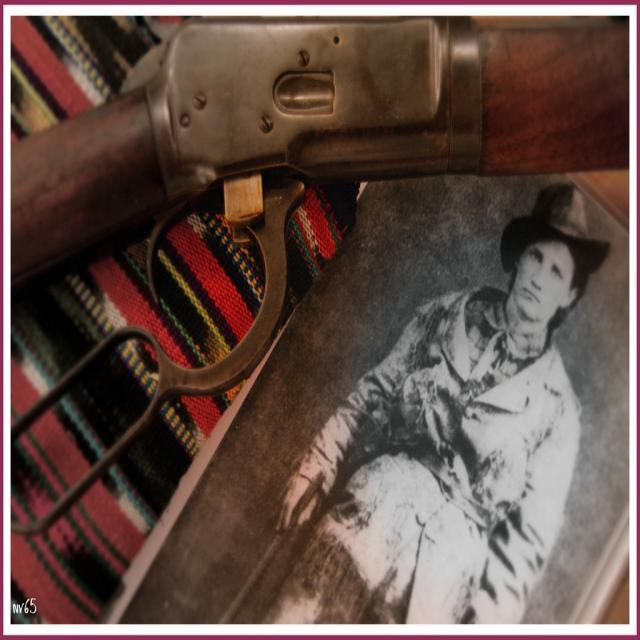weapon: (8, 14, 630, 529)
